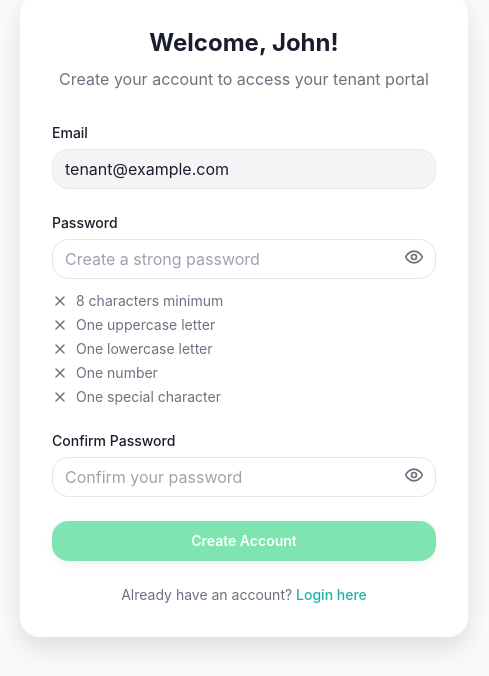
Test case: TenantSignupPage › Password Validation › should validate passwords match
Type "StrongPass123!" into the password field labelled "Password".
click(244, 259); type("StrongPass123!")  # box top-left (52, 239), bottom-right (436, 279)
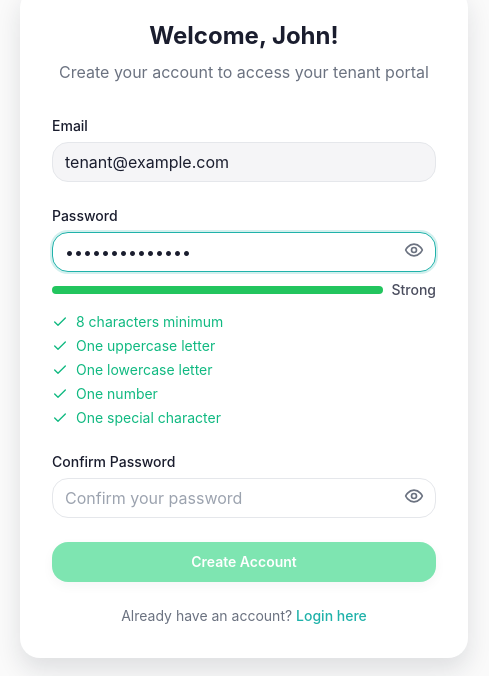
Type "DifferentPass123!" into the password field labelled "Confirm Password".
click(244, 498); type("DifferentPass123!")  # box top-left (52, 478), bottom-right (436, 518)
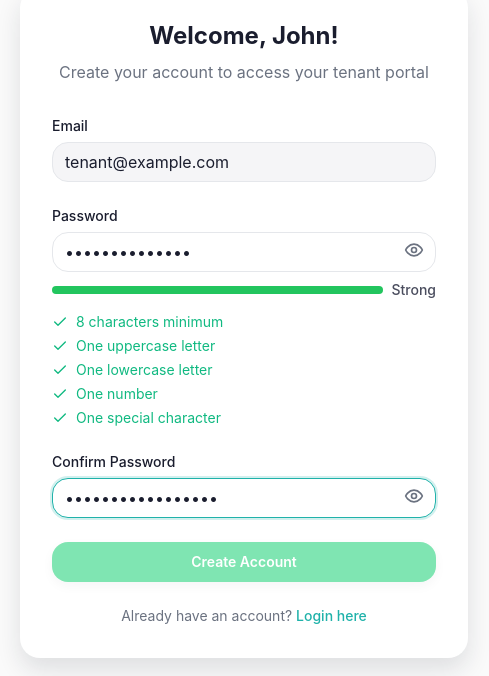
Click the button "Create Account".
click(244, 562)  # box top-left (52, 542), bottom-right (436, 582)
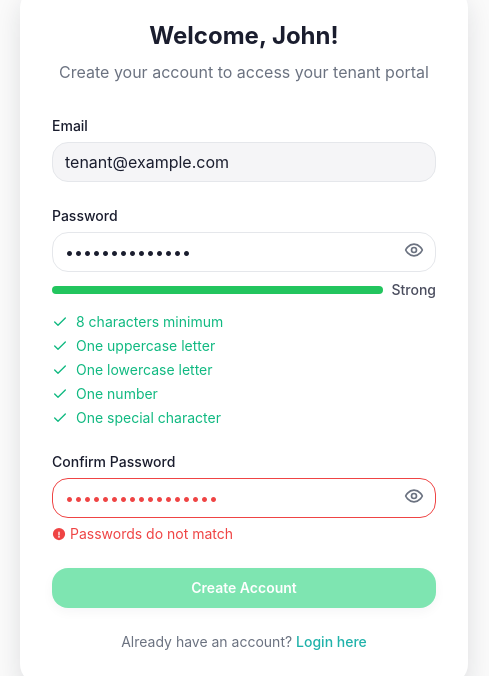
Expected: the text "Passwords do not match" is shown, top-left (52, 525), bottom-right (233, 542)
